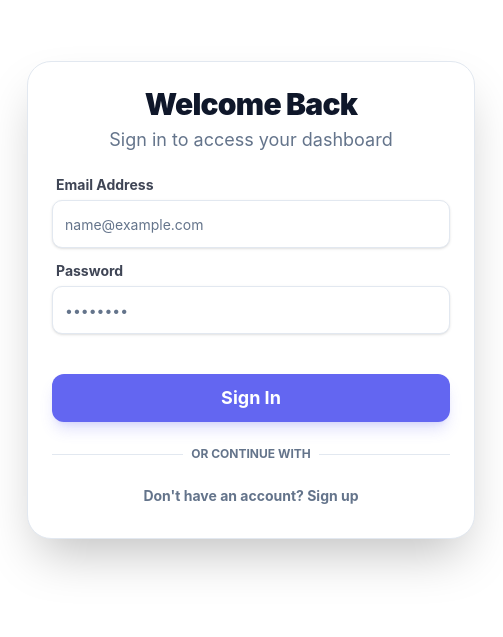
Test case: Login Component › handles inactive user account failure
Type "any@test.com" into the field labelled "Email Address".
click(251, 224); type("any@test.com")  # box [52,200,450,248]
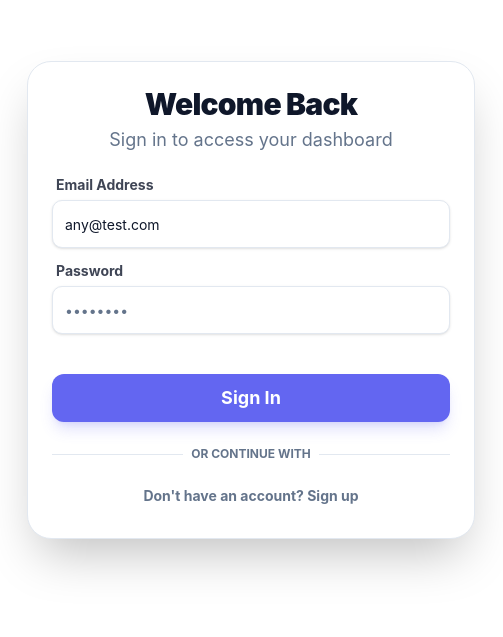
Type "any" into the password field labelled "Password".
click(251, 310); type("any")  # box [52,286,450,334]
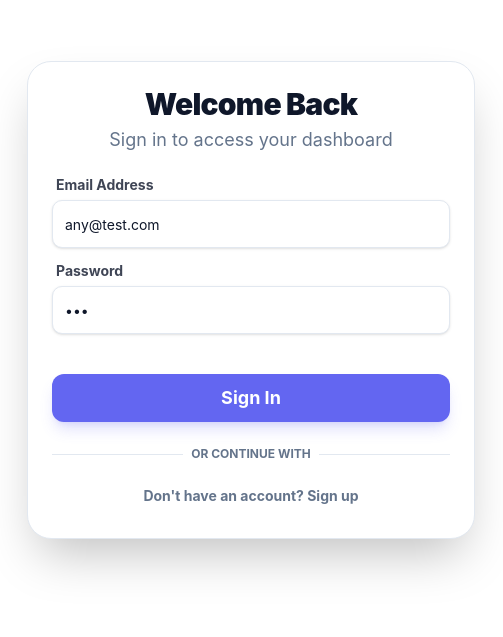
Click the button "Sign In".
click(251, 398)  # box [52,374,450,422]
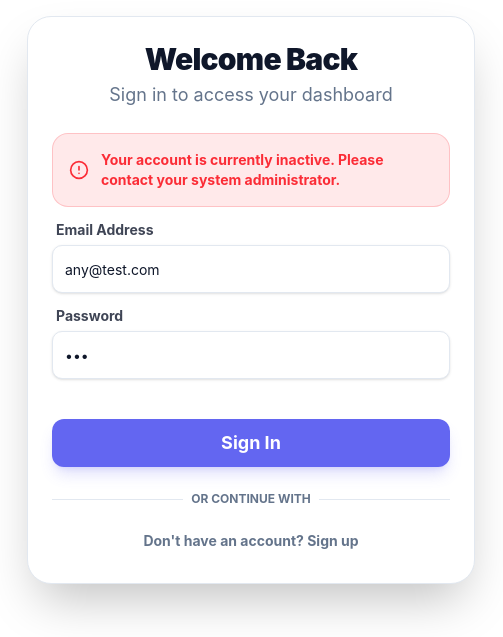
Expected: the text "Your account is currently inactive" is shown, [101,151,384,188]
